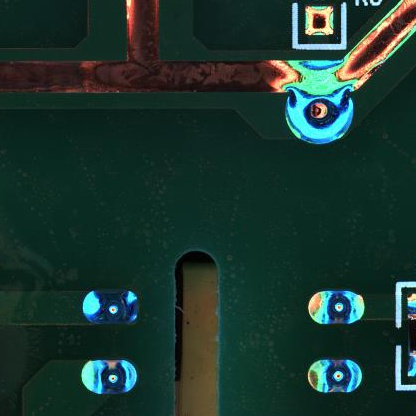spot: (283, 83, 355, 147), (82, 289, 139, 325), (308, 291, 367, 325), (81, 361, 139, 395), (307, 360, 365, 393)
